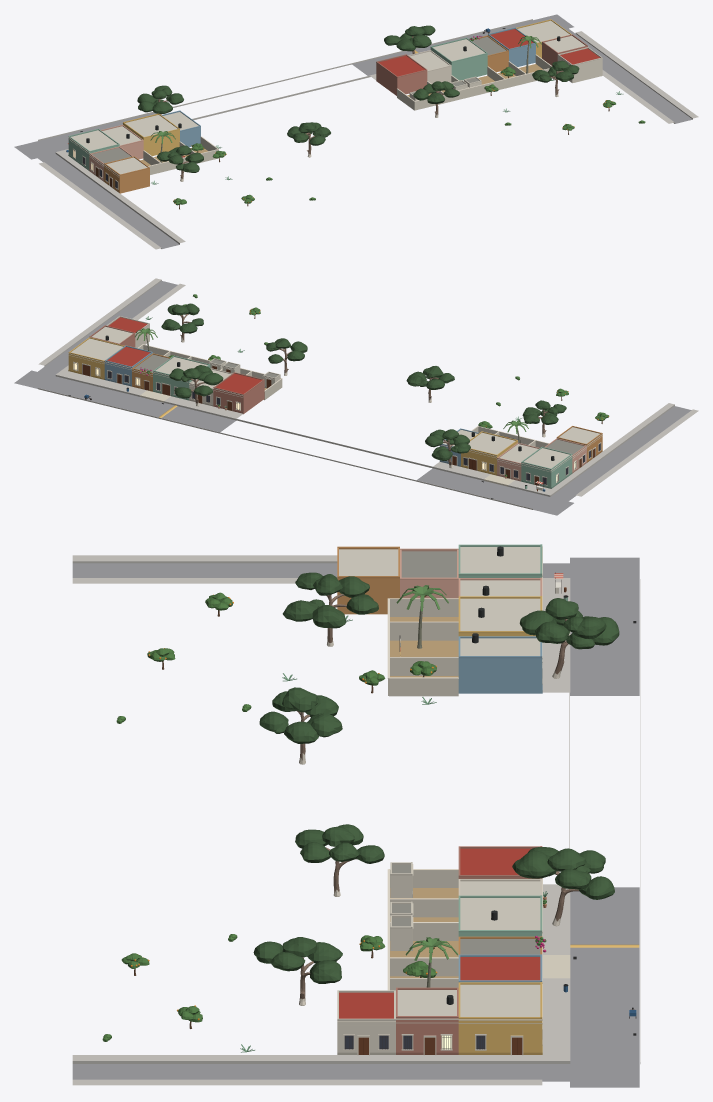
File: barrio_enfrente.glb
The picture shows the model from 3 angles, top to bottom: view 1: azimuth 30°, elevation 25°; view 2: azimuth 150°, elevation 25°; view 3: azimuth 270°, elevation 25°; orthographic projection. The views are drawn at different scales.
Parts seen in each view (by area): view 1: enfrente_fachadas, enfrente_arroyo, enfrente_laurel_copa, enfrente_banqueta, enfrente_guarnicion, enfrente_naranjo_copa, enfrente_suelo; view 2: enfrente_fachadas, enfrente_arroyo, enfrente_banqueta, enfrente_laurel_copa, enfrente_guarnicion, enfrente_pasta, enfrente_herreria, enfrente_naranjo_copa; view 3: enfrente_fachadas, enfrente_arroyo, enfrente_laurel_copa, enfrente_banqueta, enfrente_suelo, enfrente_naranjo_copa, enfrente_palma_copa.
Boxes of the visible parts, bbox=[...] form: enfrente_fachadas: bbox=[66, 19, 645, 203]; enfrente_arroyo: bbox=[14, 14, 692, 248]; enfrente_laurel_copa: bbox=[137, 25, 579, 172]; enfrente_banqueta: bbox=[39, 31, 698, 249]; enfrente_guarnicion: bbox=[38, 19, 532, 140]; enfrente_naranjo_copa: bbox=[173, 66, 615, 205]; enfrente_suelo: bbox=[140, 64, 542, 165]; enfrente_fachadas: bbox=[68, 294, 608, 498]; enfrente_arroyo: bbox=[14, 281, 691, 515]; enfrente_banqueta: bbox=[38, 278, 698, 496]; enfrente_laurel_copa: bbox=[161, 303, 566, 460]; enfrente_guarnicion: bbox=[38, 388, 550, 509]; enfrente_pasta: bbox=[140, 390, 514, 486]; enfrente_herreria: bbox=[74, 363, 600, 489]; enfrente_naranjo_copa: bbox=[168, 304, 608, 428]; enfrente_fachadas: bbox=[102, 544, 639, 1055]; enfrente_arroyo: bbox=[72, 557, 639, 1087]; enfrente_laurel_copa: bbox=[253, 572, 619, 983]; enfrente_banqueta: bbox=[72, 555, 570, 1085]; enfrente_suelo: bbox=[390, 617, 458, 977]; enfrente_naranjo_copa: bbox=[121, 592, 436, 1022]; enfrente_palma_copa: bbox=[396, 585, 457, 962].
Size of the model in its own units: 180 by 13.47 by 81.5.
